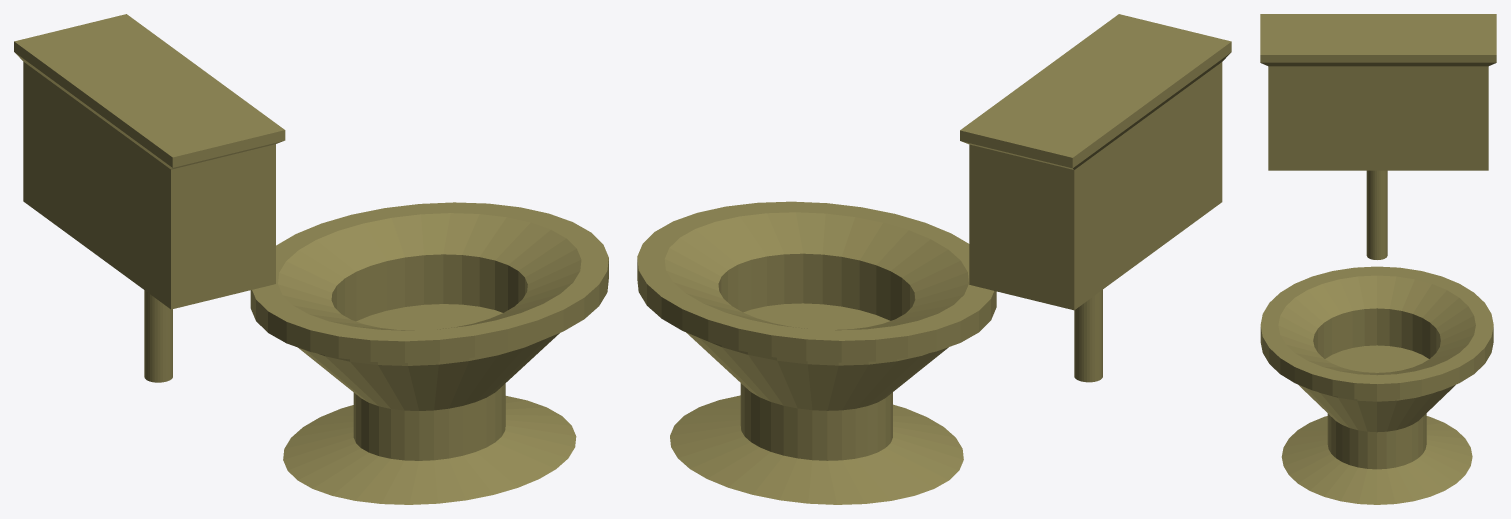
File: toilet.fbx
3 views of the same model, side by side, from view 1: azimuth 30°, elevation 25°; view 2: azimuth 150°, elevation 25°; view 3: azimuth 270°, elevation 25° (orthographic). The views are drawn at different scales.
Parts seen in each view (by area): view 1: Cylinder; view 2: Cylinder; view 3: Cylinder.
Part boxes in pixels (left/top/right/bottom): Cylinder: left=14, top=14, right=608, bottom=504; Cylinder: left=637, top=14, right=1231, bottom=504; Cylinder: left=1260, top=14, right=1496, bottom=504.
Bounding box in the file's own units: 743 × 614 × 411.
